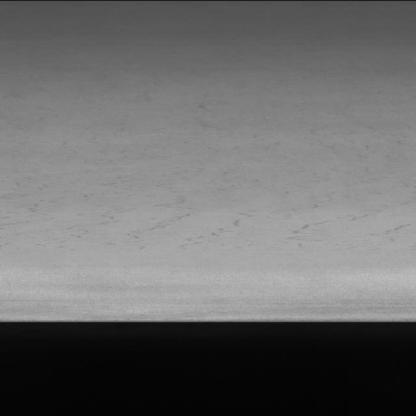silk_spot: (114, 178, 399, 254)
